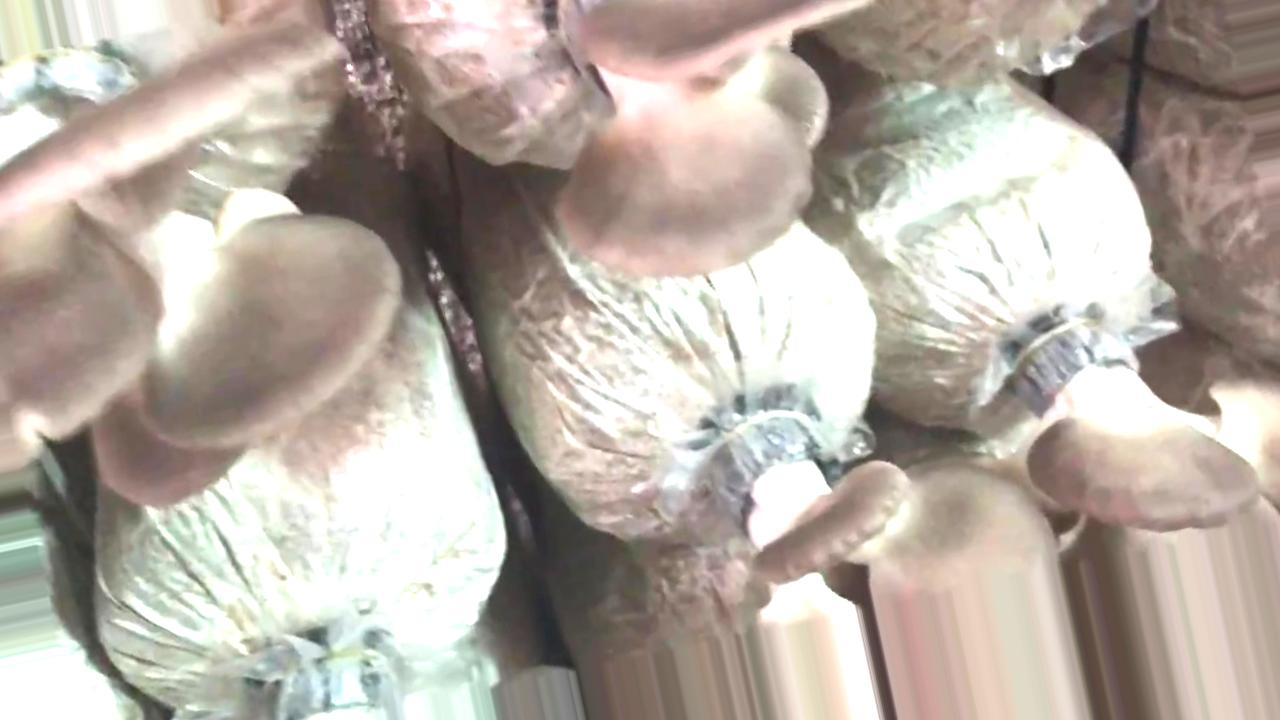nam: (7, 210, 403, 509), (548, 45, 828, 280), (1024, 305, 1263, 539), (680, 398, 918, 585)
